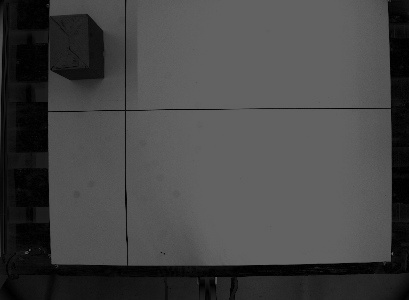b5: (46, 11, 105, 81)
